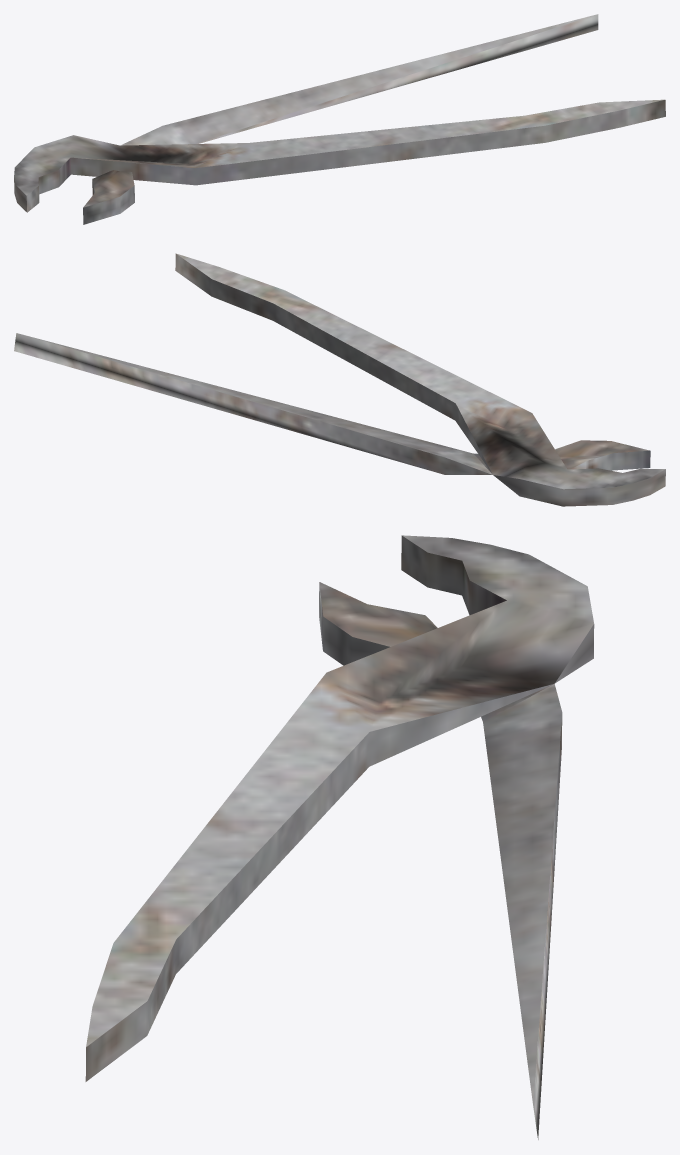
Rendered from M_Home_Garden_ToolBox8.fbx.
3 renders of one model, top to bottom at view 1: azimuth 30°, elevation 25°; view 2: azimuth 150°, elevation 25°; view 3: azimuth 270°, elevation 25°, orthographic. The views are drawn at different scales.
Parts seen in each view (by area): view 1: M_Home_Garden_ToolBox8; view 2: M_Home_Garden_ToolBox8; view 3: M_Home_Garden_ToolBox8.
Part boxes in pixels (x1=…): M_Home_Garden_ToolBox8: x1=14, y1=14, x2=665, y2=224; M_Home_Garden_ToolBox8: x1=14, y1=253, x2=665, y2=506; M_Home_Garden_ToolBox8: x1=85, y1=535, x2=594, y2=1139.
Bounding box in the file's own units: 38.02 × 2.41 × 13.82.
